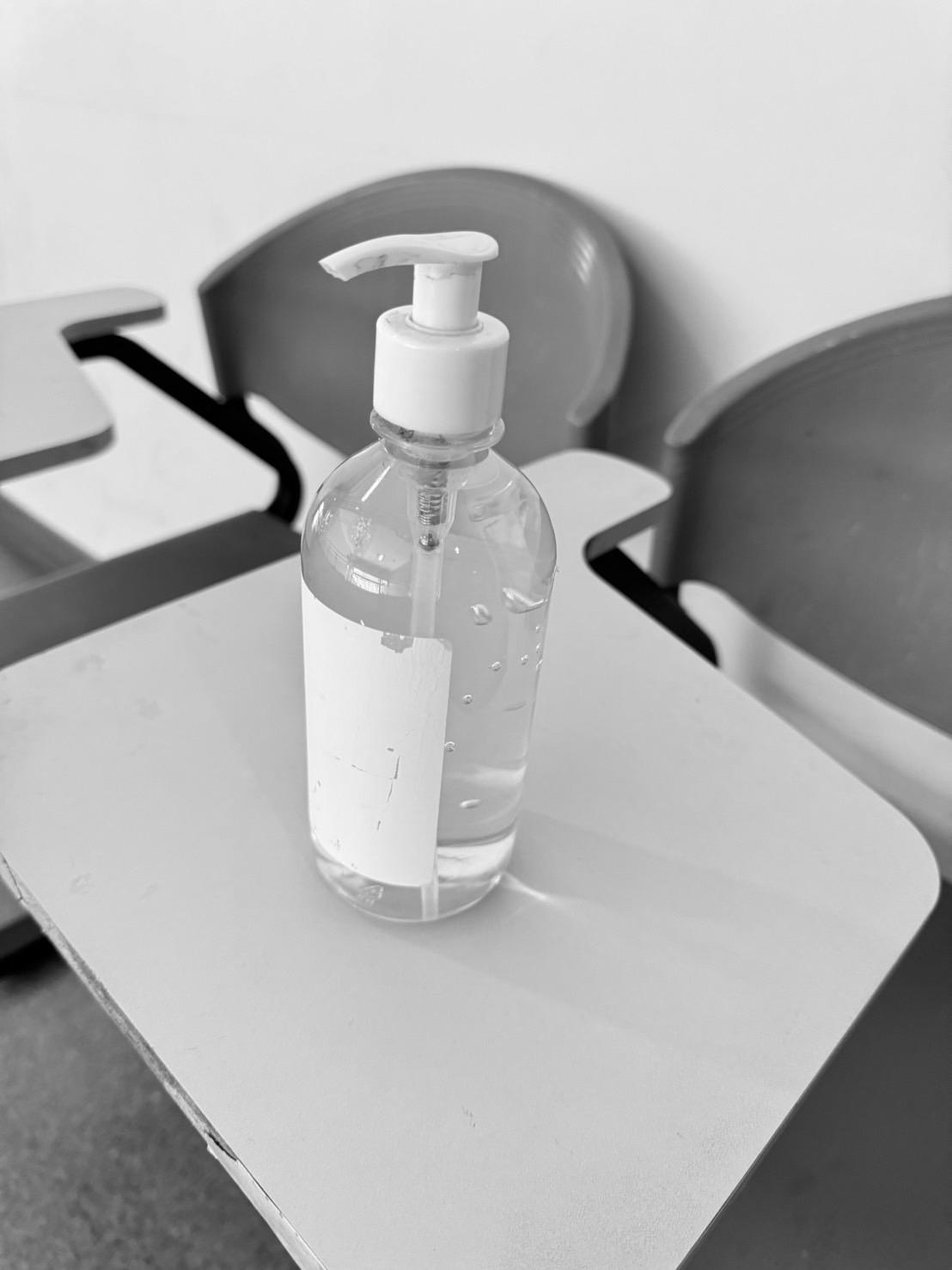bottle: (302, 231, 555, 923)
